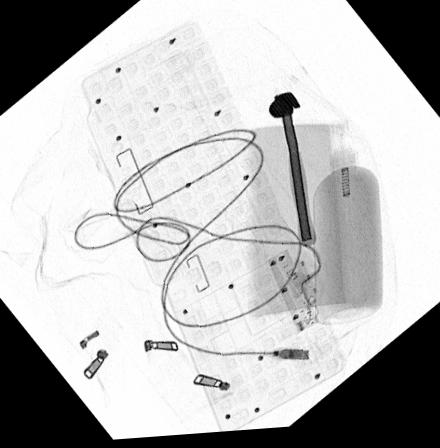Hammer: (268, 95, 316, 251)
